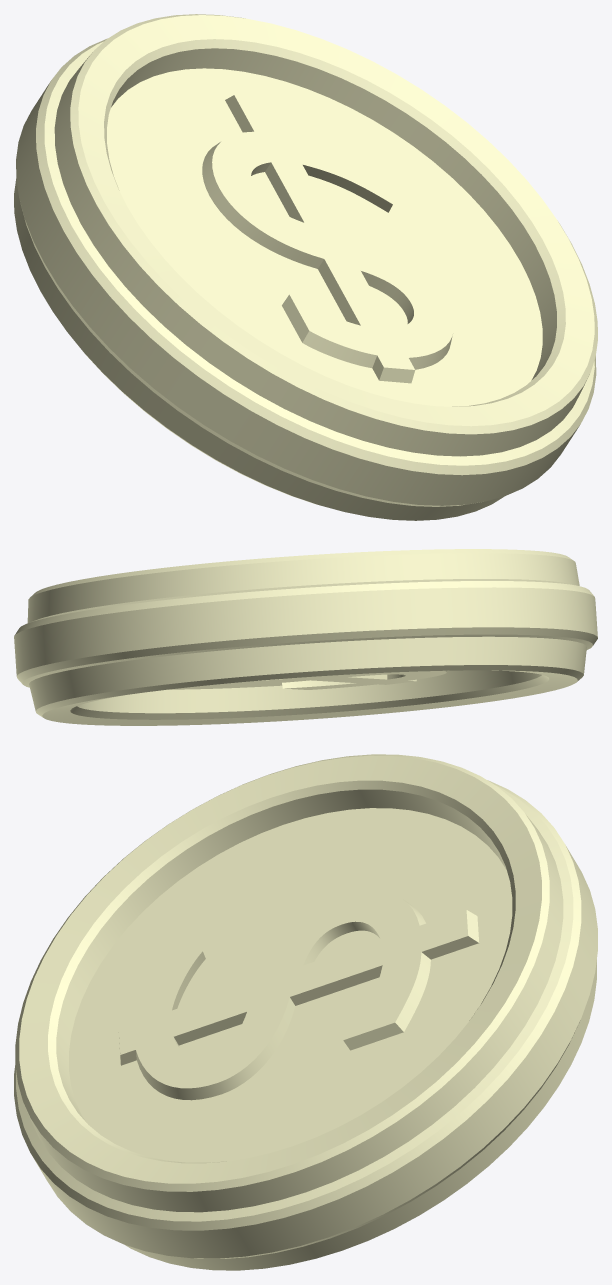
File: Money1.fbx
The picture shows the model from 3 angles, top to bottom: view 1: azimuth 30°, elevation 25°; view 2: azimuth 150°, elevation 25°; view 3: azimuth 270°, elevation 25°; orthographic projection. The views are drawn at different scales.
Parts seen in each view (by area): view 1: Money; view 2: Money; view 3: Money.
Boxes of the visible parts, x1,y1,x2,y2 form: Money: [14, 14, 597, 520]; Money: [14, 549, 597, 725]; Money: [14, 754, 597, 1270].
Size of the model in its own units: 193 by 126 by 187.
